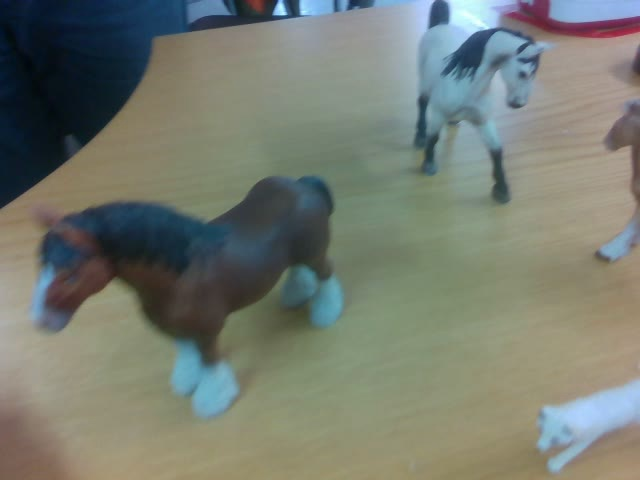toy: (412, 1, 555, 203)
